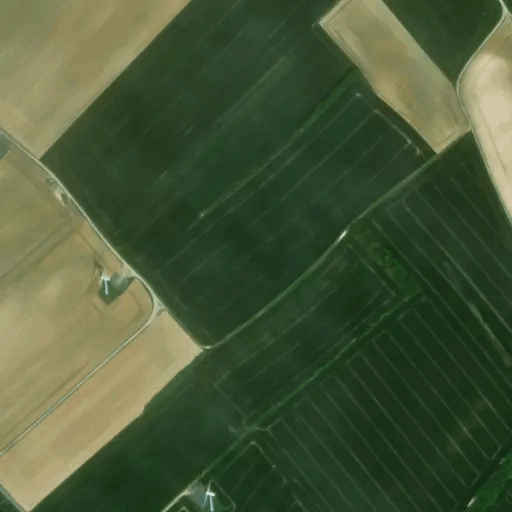wt: (84, 247, 123, 302), (191, 465, 232, 512)
